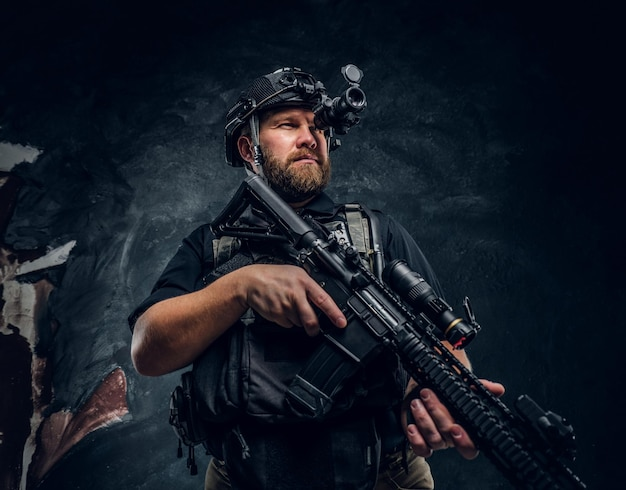gun: (242, 168, 595, 490)
